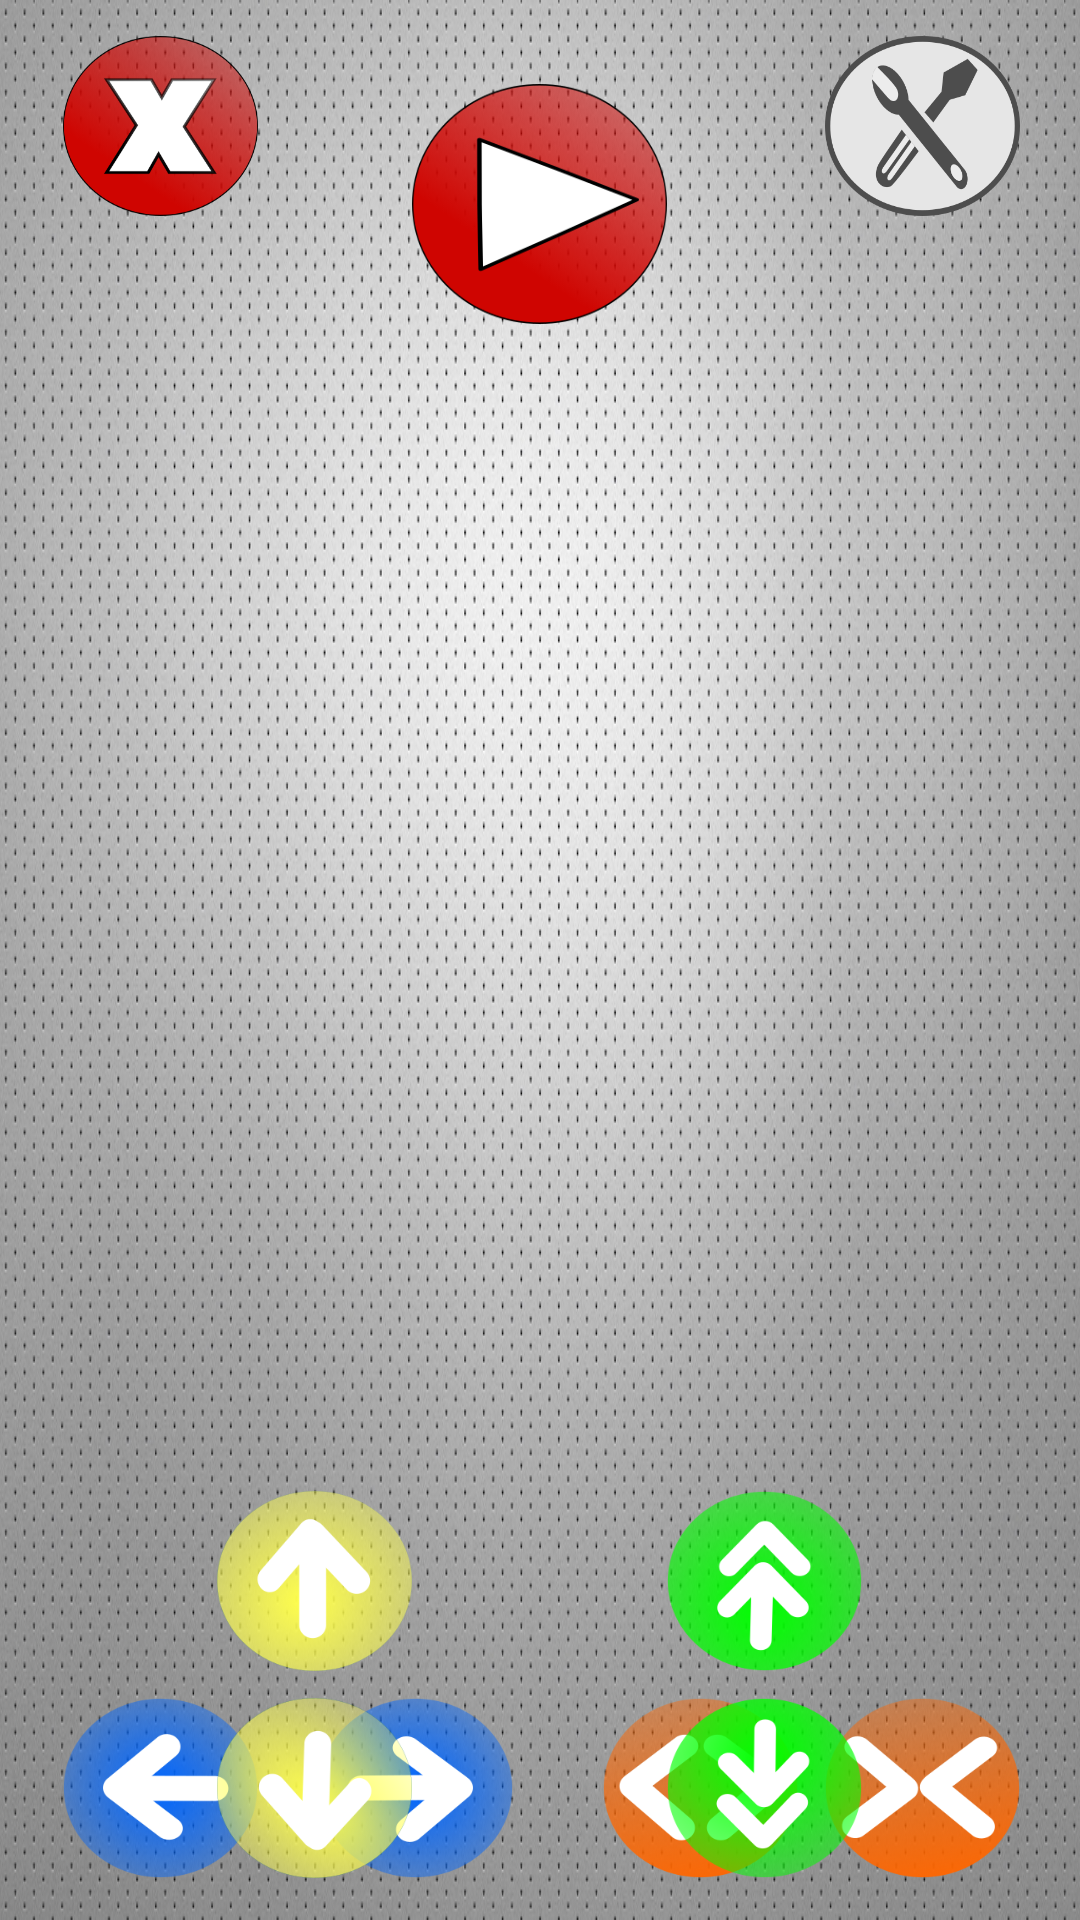

Where icons sit on this 1080 × 1920 app screen, as (x1, y1, x2, y2):
cancelar: (63, 36, 258, 216)
configuracoes: (825, 36, 1020, 216)
play: (412, 84, 667, 324)
